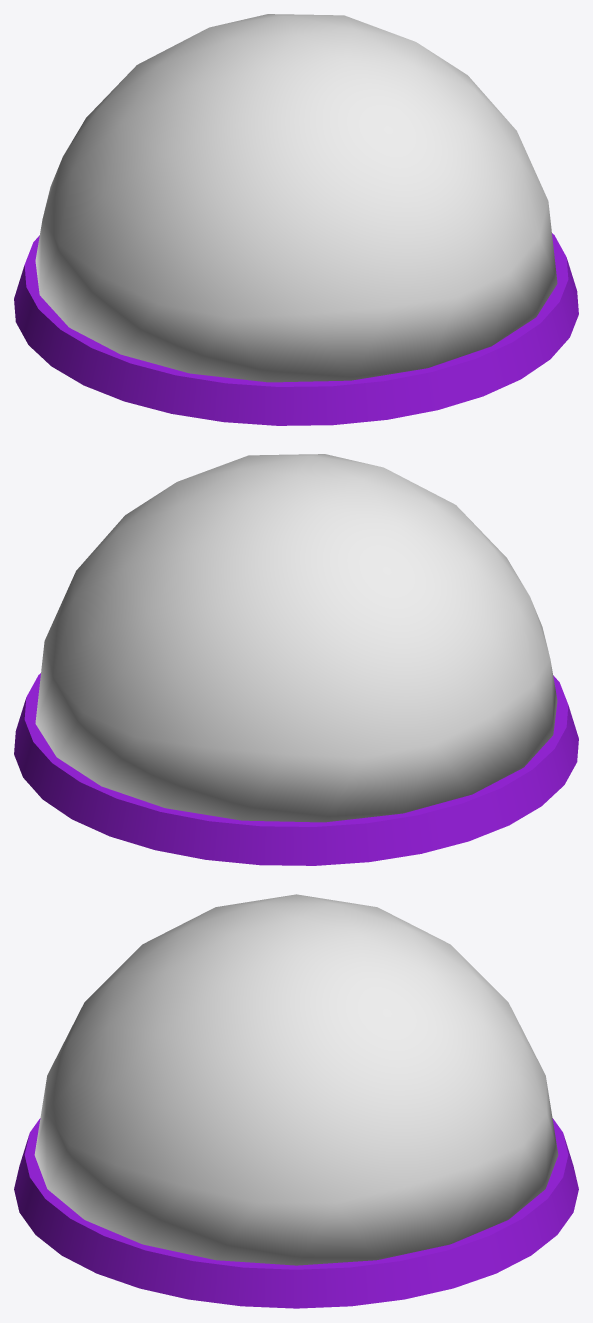
Rendered from snowglobe.fbx.
The picture shows the model from 3 angles, top to bottom: view 1: azimuth 30°, elevation 25°; view 2: azimuth 150°, elevation 25°; view 3: azimuth 270°, elevation 25°; orthographic projection.
Parts seen in each view (by area): view 1: Snowglobe; view 2: Snowglobe; view 3: Snowglobe.
Boxes of the visible parts, x1,y1,x2,y2 form: Snowglobe: [14, 14, 578, 425]; Snowglobe: [14, 454, 578, 865]; Snowglobe: [14, 894, 578, 1308].
Size of the model in its own units: 194 by 102 by 194.
